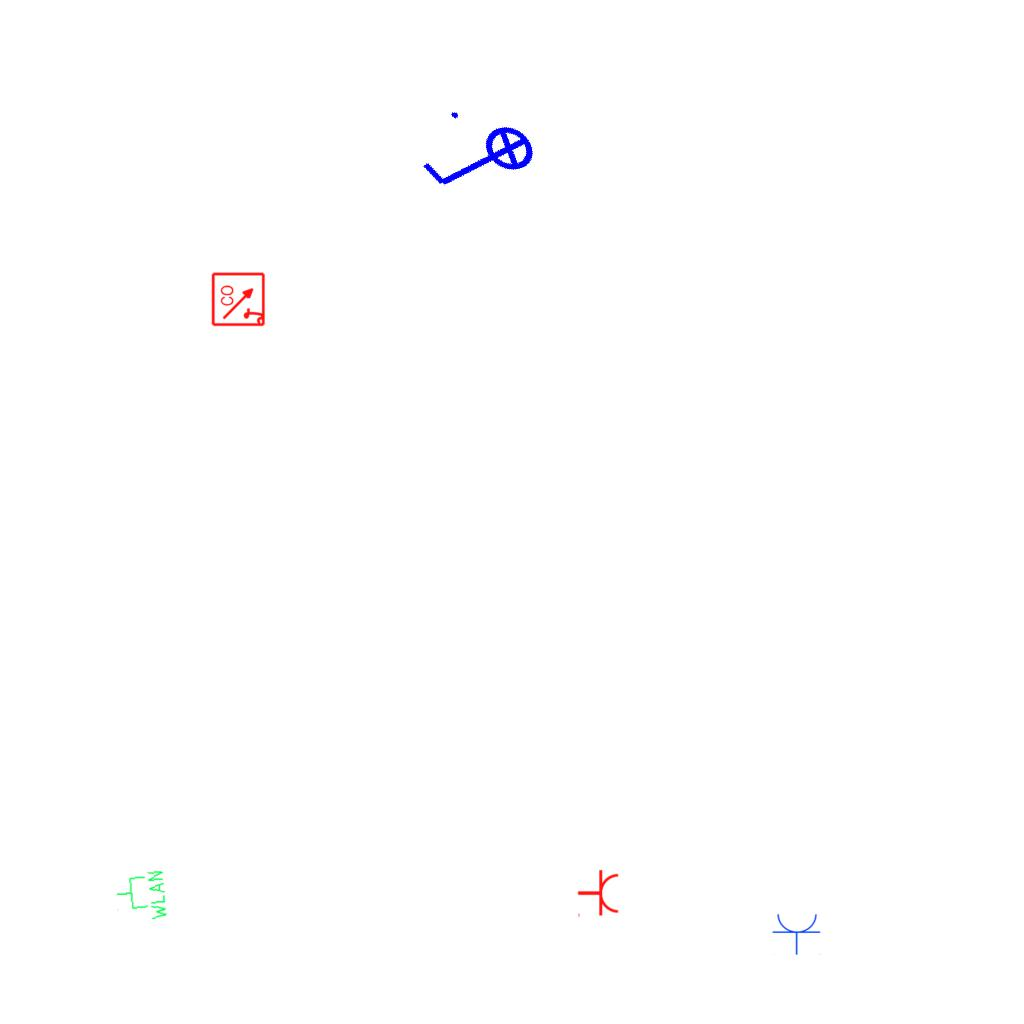Ausschalter_beleuchtet: (408, 92, 554, 232)
ROA_Rauchmelder_optisch_mit_Signalgeber_(Sockelsirene): (211, 271, 267, 327)
Schukosteckdose_einfach: (772, 912, 822, 955), (577, 869, 620, 919)
WLAN: (112, 868, 170, 926)
